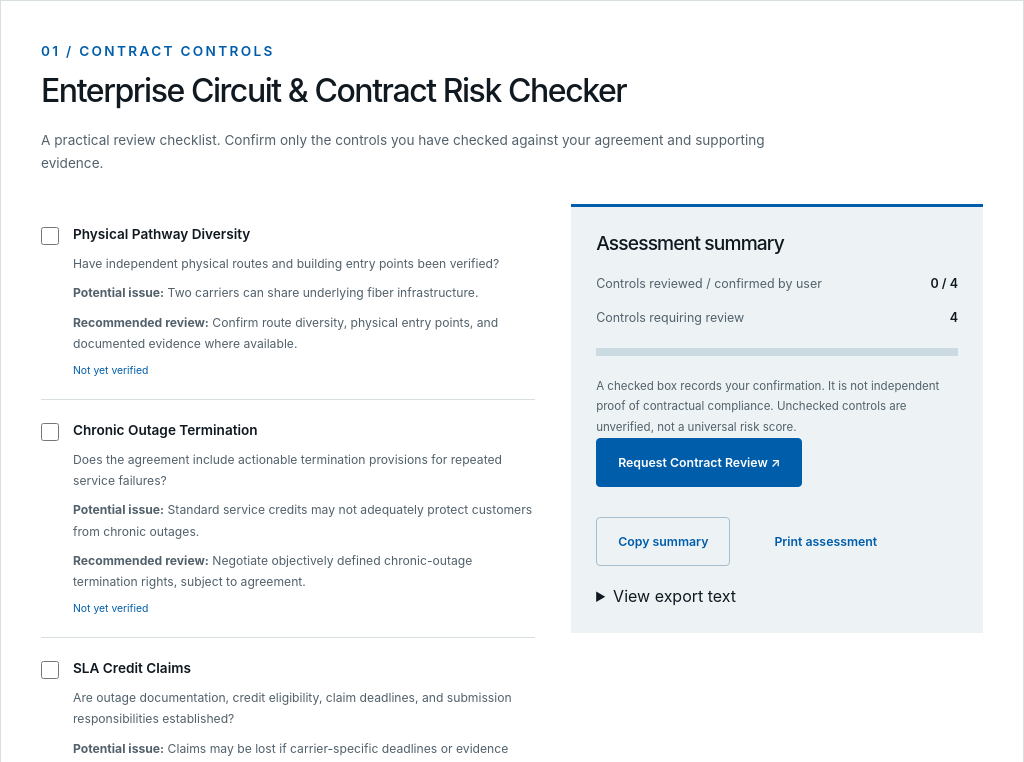
it: interactive planning controls › records and reverses user confirmation without asserting compliance
The image size is (1024, 762).
Click the checkbox labelled "Physical Pathway Diversity" at (50, 236), box [41, 227, 59, 245]
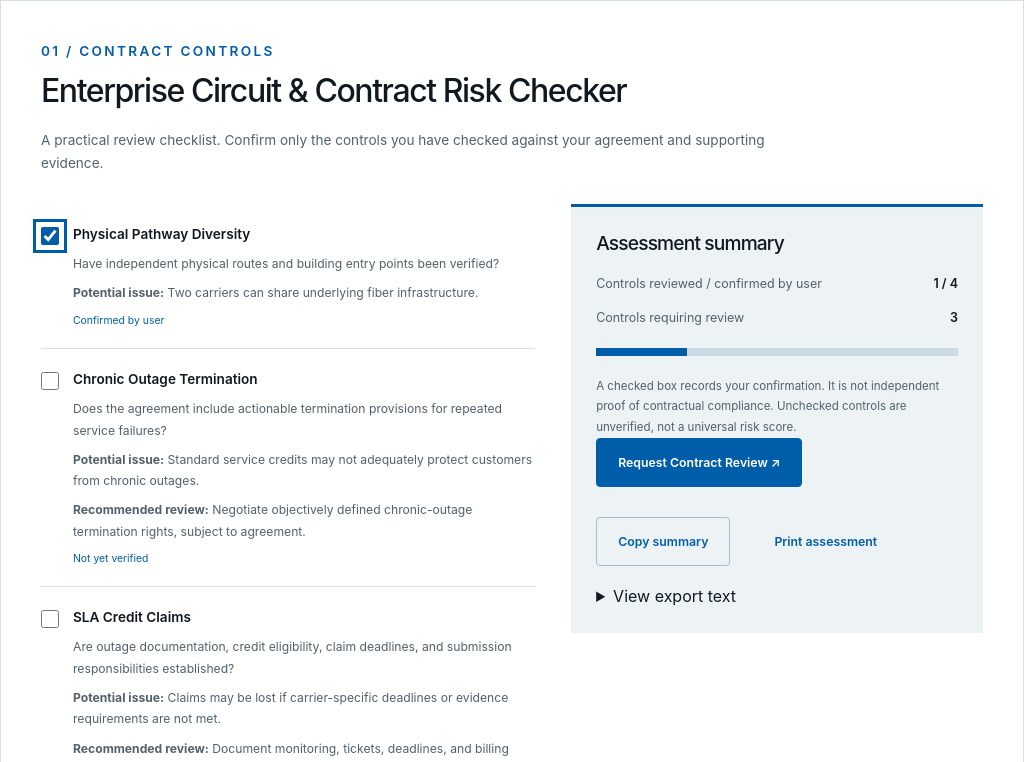
Expected: the text "1 / 4" is shown, [933, 275, 958, 294]
Click the checkbox labelled "Physical Pathway Diversity" at (50, 236), box [41, 227, 59, 245]
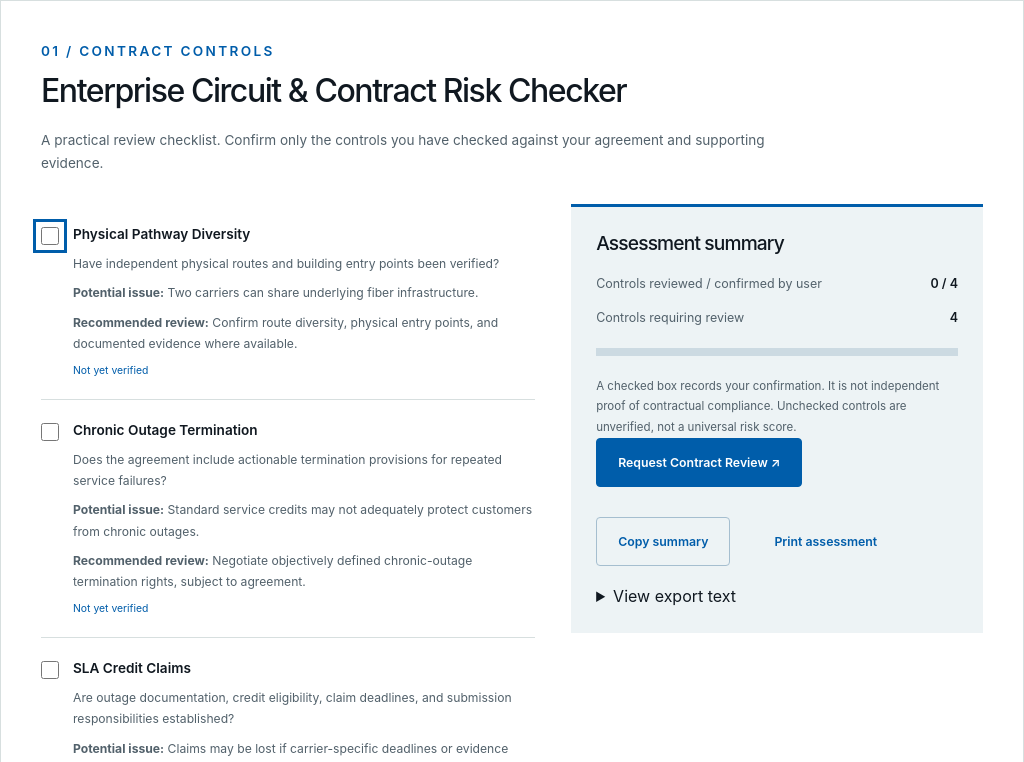
Expected: the text "not independent proof of contractual compliance" is shown, [596, 379, 939, 434]
Expected: the text "0 / 4" is shown, [930, 275, 958, 294]
